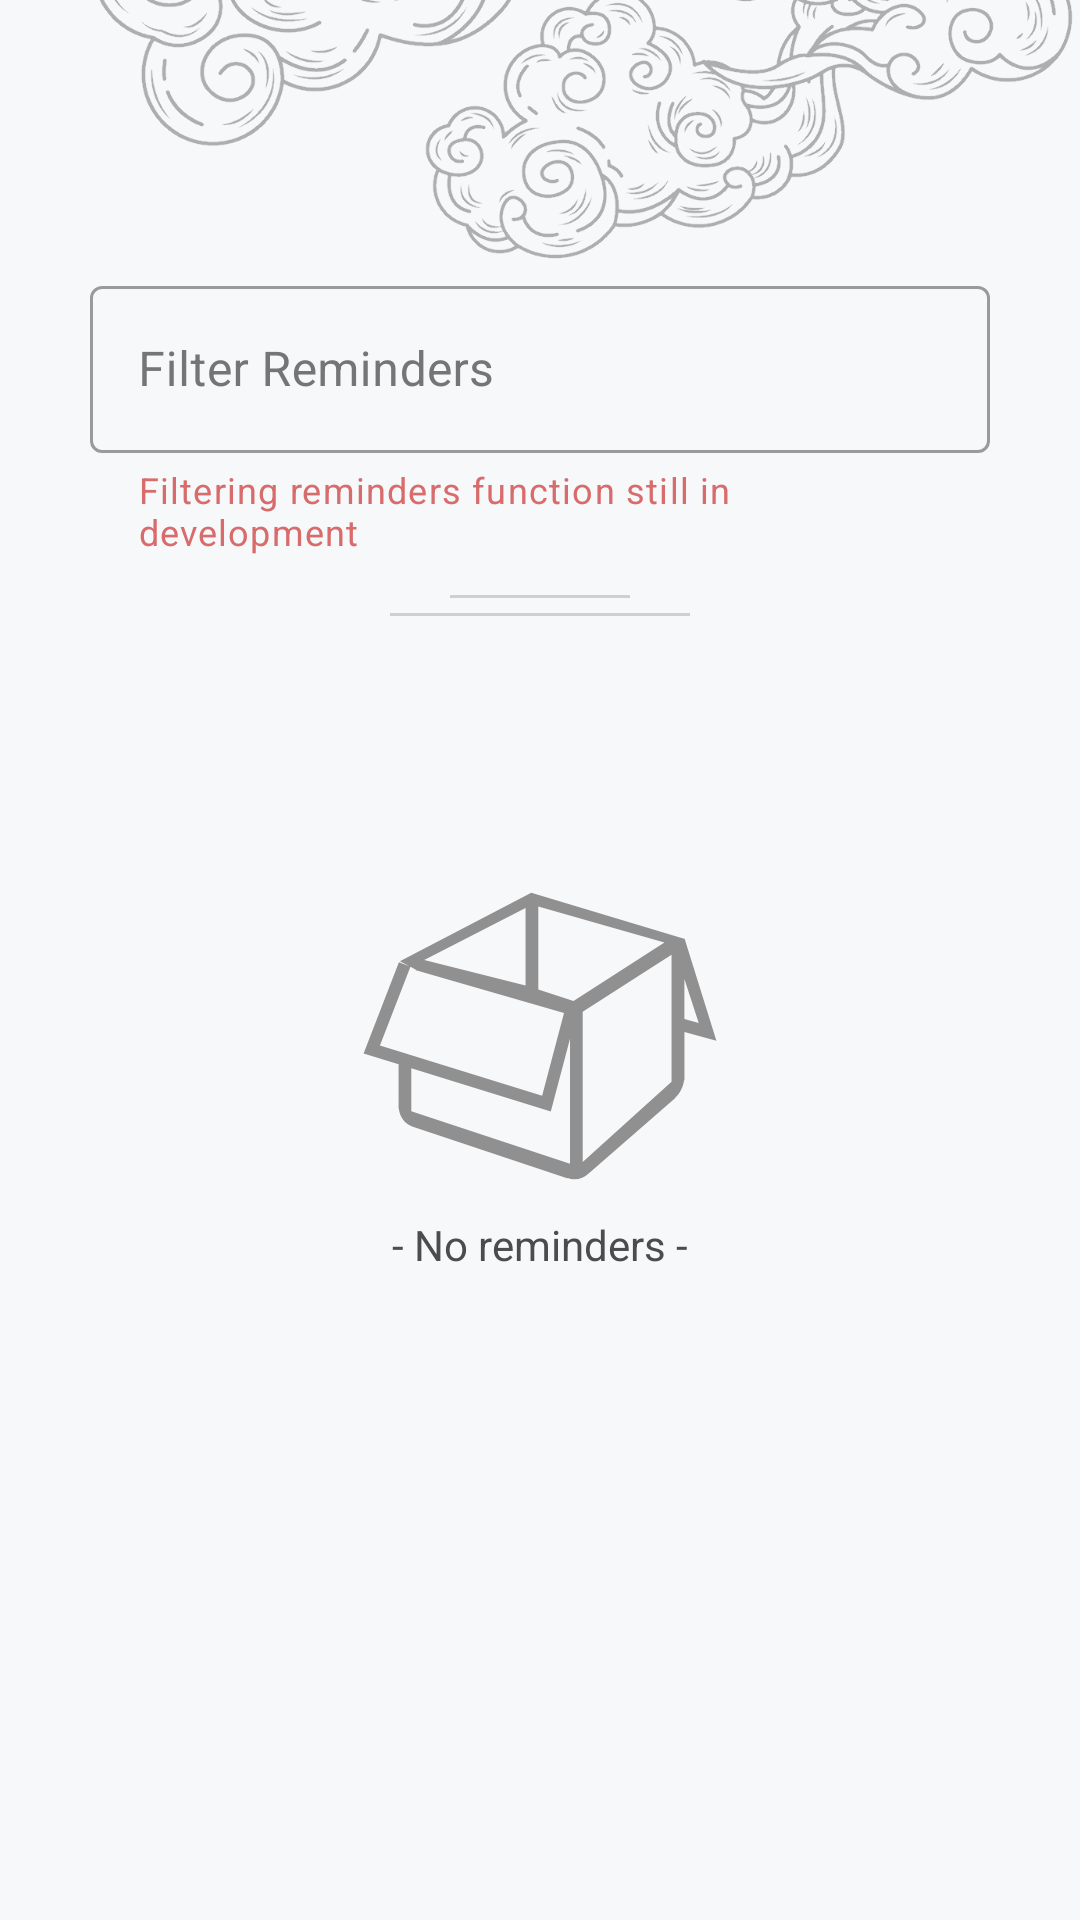

Icon bounding boxes for this 1080*1920 phone screenshot, format (left=x1, top=y1, right=x2, bottom=y2):
empty box: (left=364, top=893, right=716, bottom=1180)
